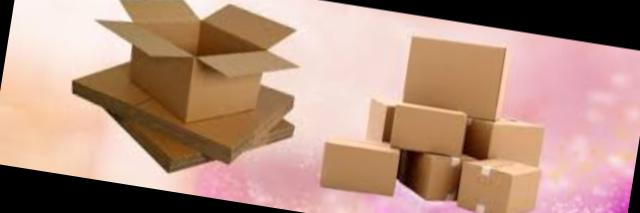cardboard paper: (74, 0, 298, 168), (406, 34, 507, 116), (457, 158, 540, 213), (320, 138, 399, 194), (389, 101, 466, 154), (463, 117, 543, 164), (403, 150, 461, 199)
